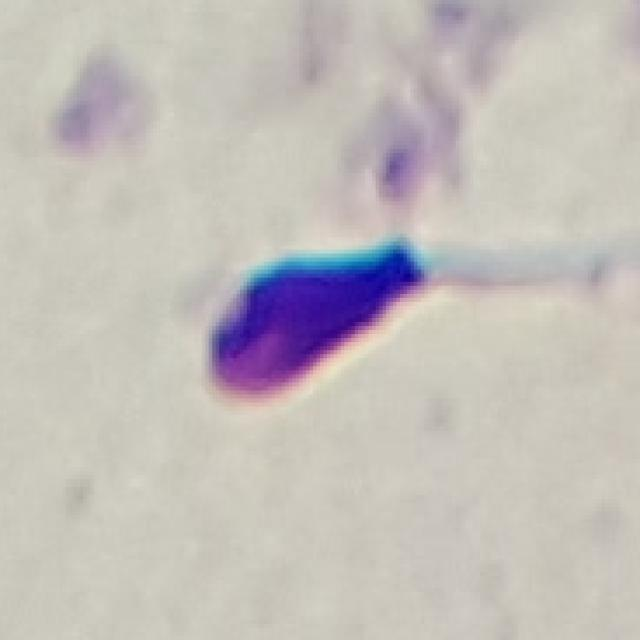abnormal sperm: (200, 232, 640, 424)
